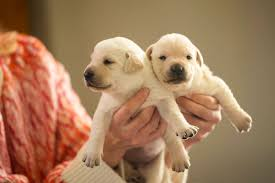dog: (65, 36, 195, 175), (139, 19, 258, 146)
